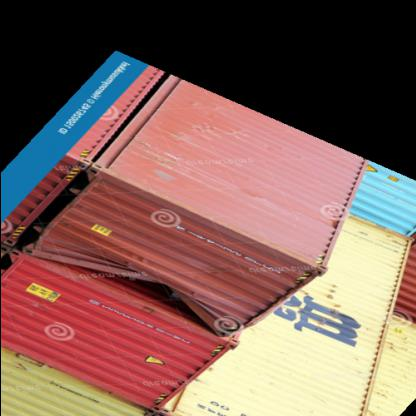Damage: (96, 256, 186, 318)
